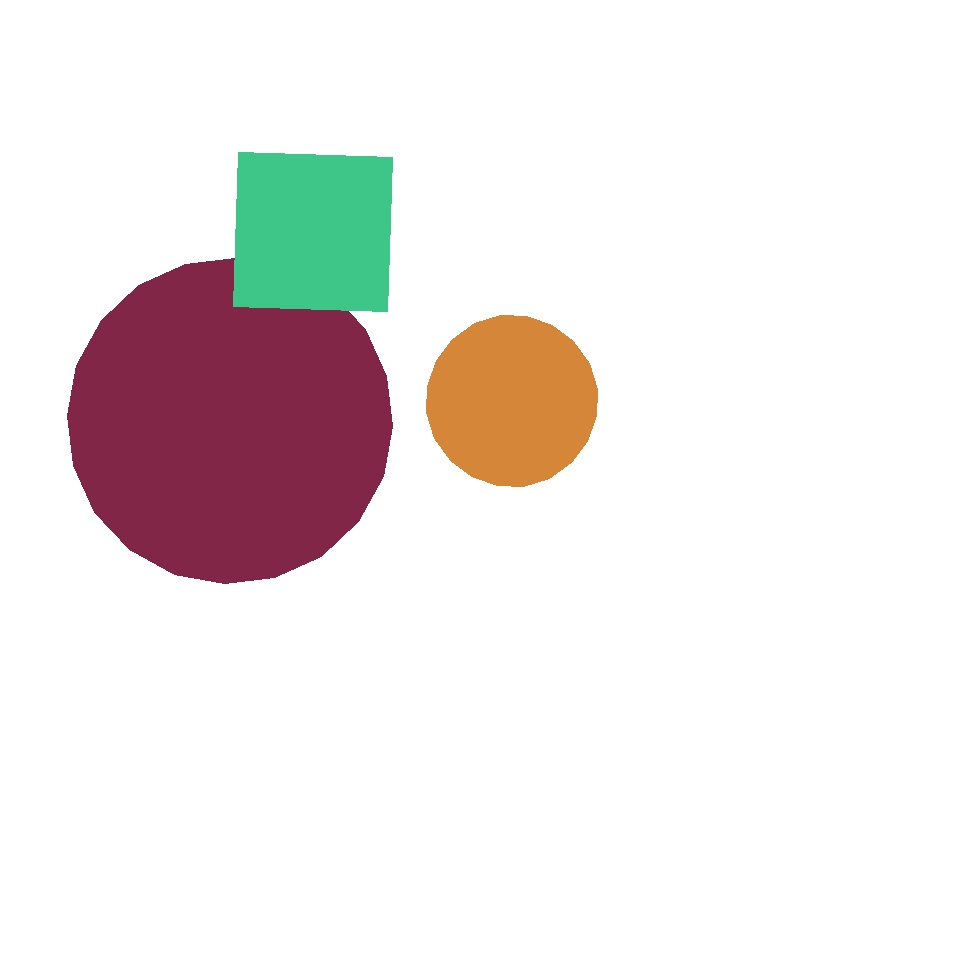square: (330, 66, 502, 237), (48, 404, 218, 572), (234, 153, 392, 312)
triangle: (68, 258, 392, 584), (106, 390, 332, 616), (294, 646, 484, 838), (426, 316, 598, 487)
